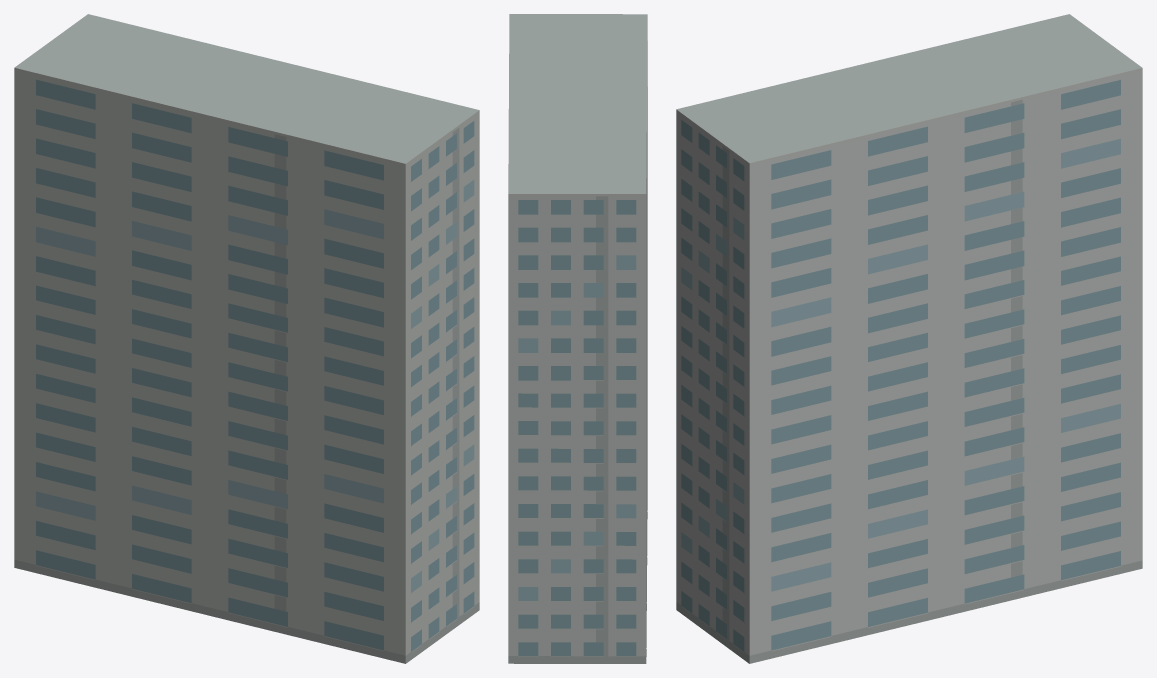
Rendered from residential-bbd9e020-3dae-4d01-bc86-b3d7fe7f9c7a.glb.
3 views of the same model, side by side, from view 1: azimuth 30°, elevation 25°; view 2: azimuth 150°, elevation 25°; view 3: azimuth 270°, elevation 25° (orthographic). The views are drawn at different scales.
Visible parts, largest first — view 1: residential-bbd9e020-3dae-4d01-bc86-b3d7fe7f9c7a.tmp; view 2: residential-bbd9e020-3dae-4d01-bc86-b3d7fe7f9c7a.tmp; view 3: residential-bbd9e020-3dae-4d01-bc86-b3d7fe7f9c7a.tmp.
Part boxes in pixels (box(x1,y1,x2,y2)): residential-bbd9e020-3dae-4d01-bc86-b3d7fe7f9c7a.tmp: box(14, 14, 479, 663); residential-bbd9e020-3dae-4d01-bc86-b3d7fe7f9c7a.tmp: box(508, 14, 647, 663); residential-bbd9e020-3dae-4d01-bc86-b3d7fe7f9c7a.tmp: box(676, 14, 1142, 663).
Size of the model in its own units: 31.35 by 49 by 41.39.
